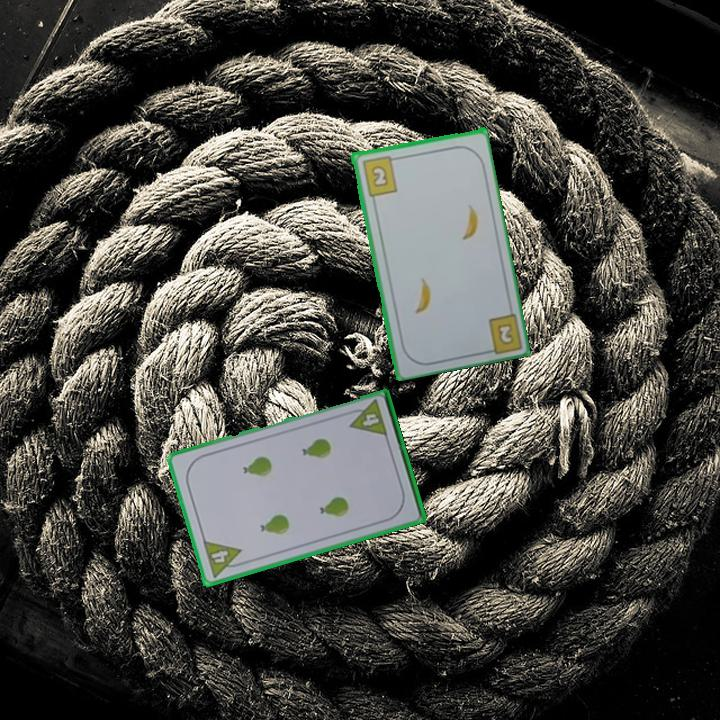2b: (358, 152, 400, 199), (493, 319, 517, 347)
4p: (199, 537, 248, 580), (343, 396, 390, 440)
